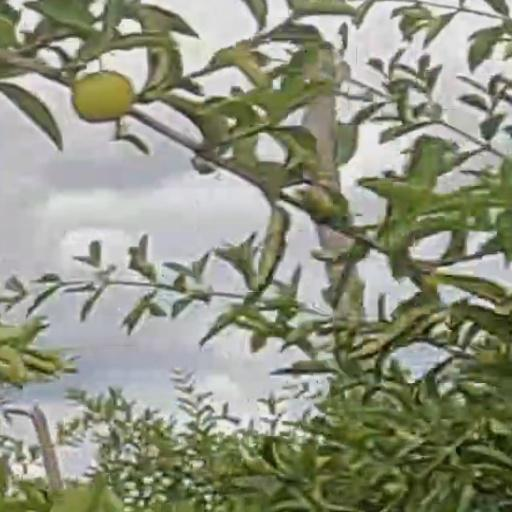acerola_verde: (76, 72, 131, 120)
